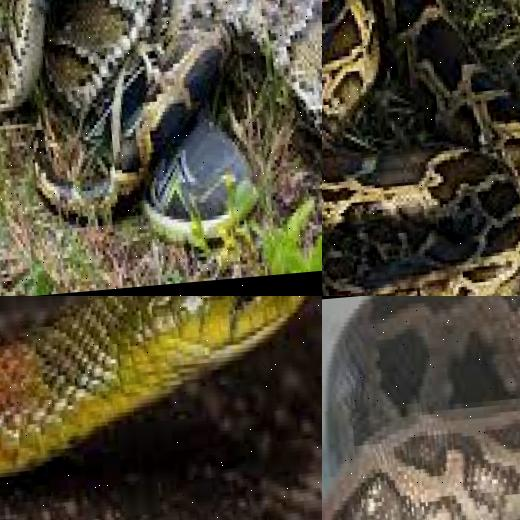2: (0, 296, 322, 520)
snake: (0, 0, 322, 296), (322, 0, 520, 296), (322, 296, 520, 520)
